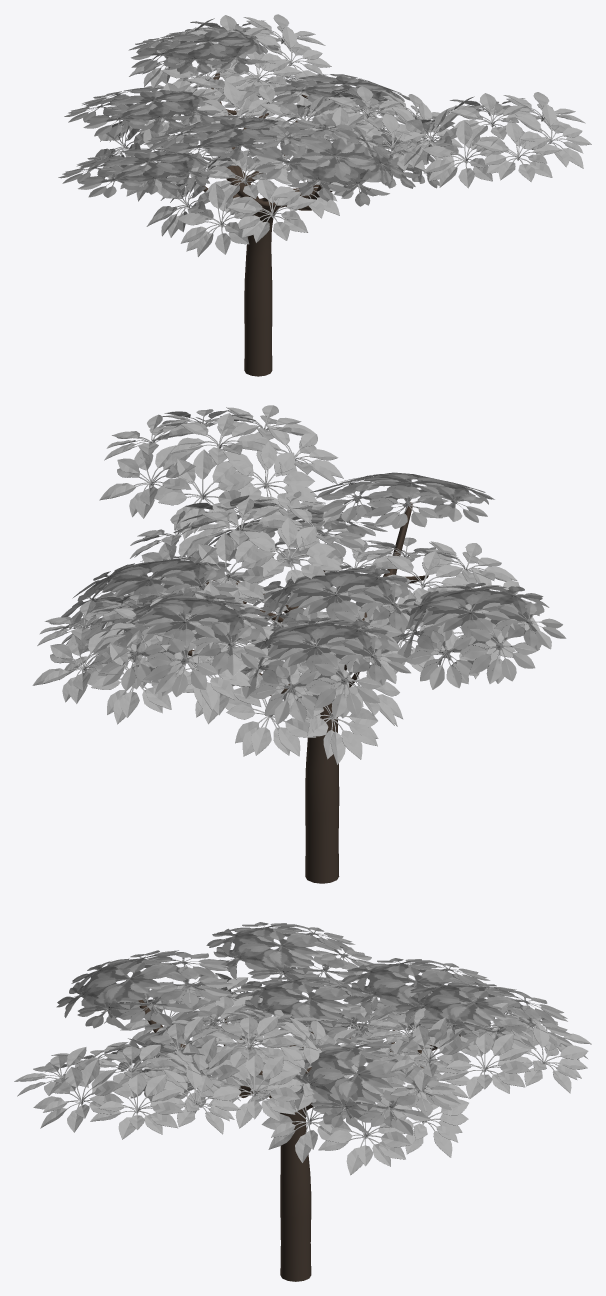
File: green tree.fbx
3 renders of one model, top to bottom at view 1: azimuth 30°, elevation 25°; view 2: azimuth 150°, elevation 25°; view 3: azimuth 270°, elevation 25°, orthographic. The views are drawn at different scales.
Parts seen in each view (by area): view 1: pPlane23, pPlane24, pPlane29, pPlane21, pPlane25, pCylinder1, pPlane33, pPlane31, pPlane22, pPlane27, pPlane32, pPlane28 (+2 smaller); view 2: pPlane23, pPlane33, pPlane25, pPlane27, pPlane31, pPlane21, pPlane22, pPlane32, pPlane24, pPlane29, pCylinder1, pPlane28 (+2 smaller); view 3: pPlane23, pPlane25, pPlane21, pPlane28, pPlane29, pPlane26, pPlane33, pPlane27, pCylinder1, pPlane32, pPlane31, pPlane30 (+2 smaller).
Part boxes in pixels (x1,y1,x2,y2): pPlane23: [390, 92, 591, 188]; pPlane24: [146, 143, 343, 256]; pPlane29: [253, 116, 403, 206]; pPlane21: [129, 14, 331, 103]; pPlane25: [272, 86, 463, 171]; pCylinder1: [202, 73, 332, 376]; pPlane33: [58, 148, 217, 197]; pPlane31: [64, 87, 223, 136]; pPlane22: [87, 72, 274, 201]; pPlane27: [128, 27, 279, 74]; pPlane32: [144, 115, 295, 161]; pPlane28: [265, 74, 410, 116]; pPlane23: [99, 405, 343, 539]; pPlane33: [381, 583, 566, 689]; pPlane25: [127, 491, 368, 604]; pPlane27: [86, 590, 270, 696]; pPlane31: [232, 617, 410, 724]; pPlane21: [32, 590, 265, 724]; pPlane22: [183, 603, 402, 764]; pPlane32: [253, 565, 424, 668]; pPlane24: [316, 537, 540, 678]; pPlane29: [310, 472, 494, 528]; pCylinder1: [188, 502, 428, 883]; pPlane28: [61, 556, 238, 643]; pPlane23: [14, 1038, 243, 1139]; pPlane25: [135, 1005, 357, 1128]; pPlane21: [364, 998, 591, 1098]; pPlane28: [293, 1035, 460, 1135]; pPlane29: [56, 950, 232, 1029]; pPlane26: [243, 1028, 469, 1175]; pPlane33: [206, 922, 373, 990]; pPlane27: [395, 981, 573, 1050]; pCylinder1: [138, 1000, 460, 1281]; pPlane32: [235, 976, 391, 1044]; pPlane31: [341, 958, 497, 1028]; pPlane30: [117, 1005, 289, 1107].
Bounding box in the file's own units: 33.99 × 18.96 × 32.39.
